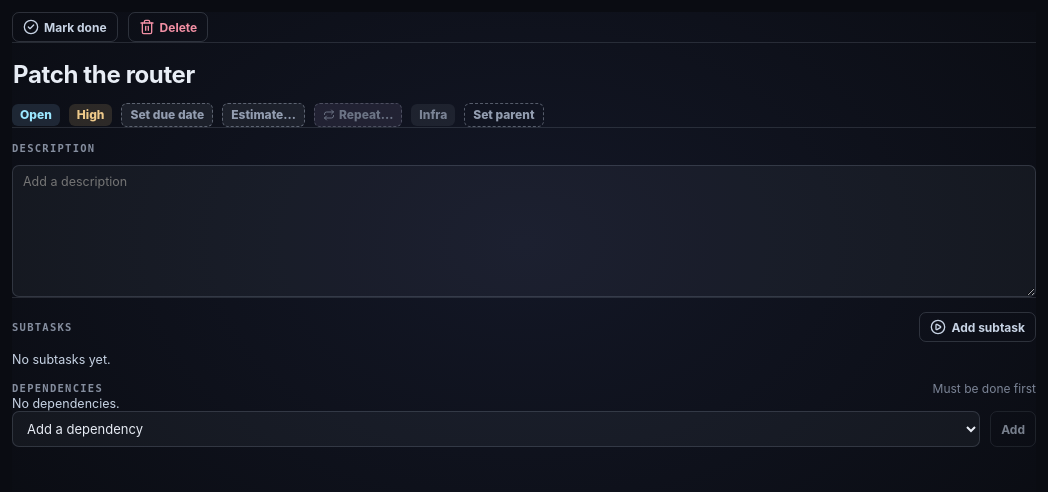
it: TaskDetailView › keeps a description edit typed while the title save is in flight
Replace the text in the field named "Task title" with "Patch the edge router" at (524, 75), box x1=12 y1=57 x2=1036 y2=93
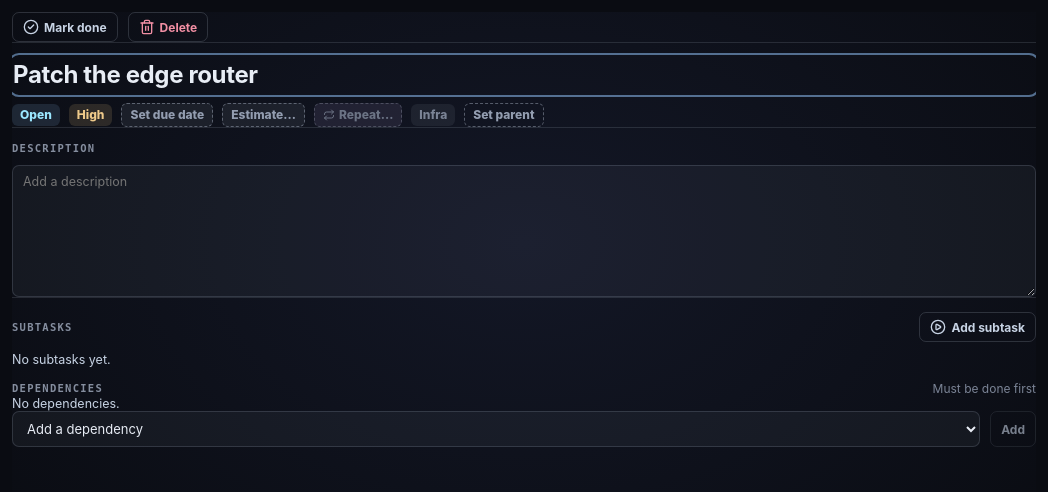
// Clicking into the description blurs the title, which starts its save.
Click the text box named "Task description".
click(524, 231)  # box x1=12 y1=165 x2=1036 y2=297
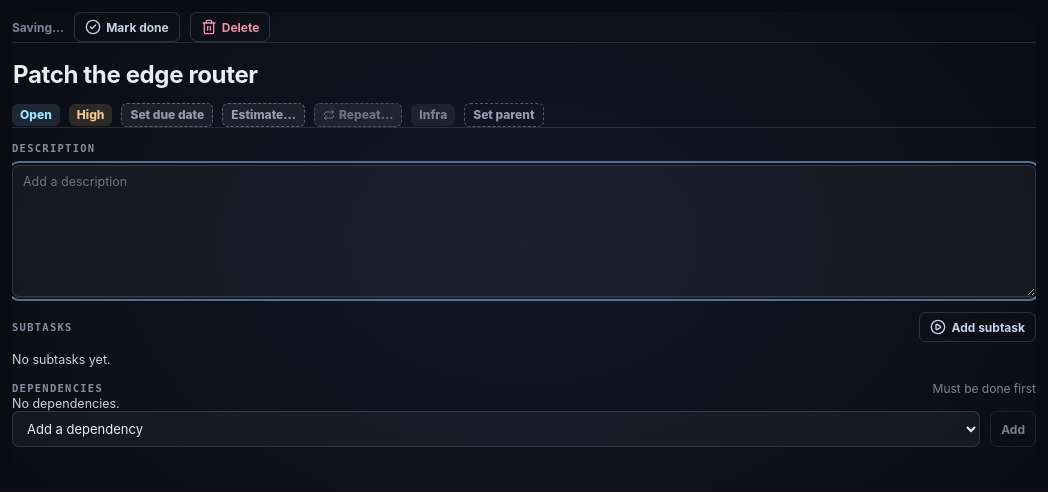
Type "Half-typed" into the text box named "Task description".
click(524, 231); type("Half-typed")  # box x1=12 y1=165 x2=1036 y2=297
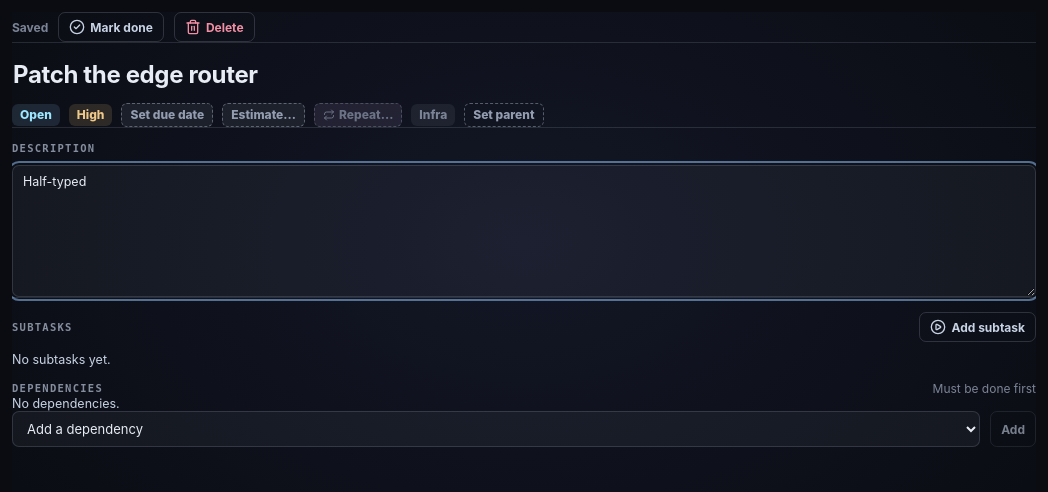
// The next keystroke continues the surviving draft rather than re-anchoring.
Type " note" into the text box named "Task description".
click(524, 231); type(" note")  # box x1=12 y1=165 x2=1036 y2=297
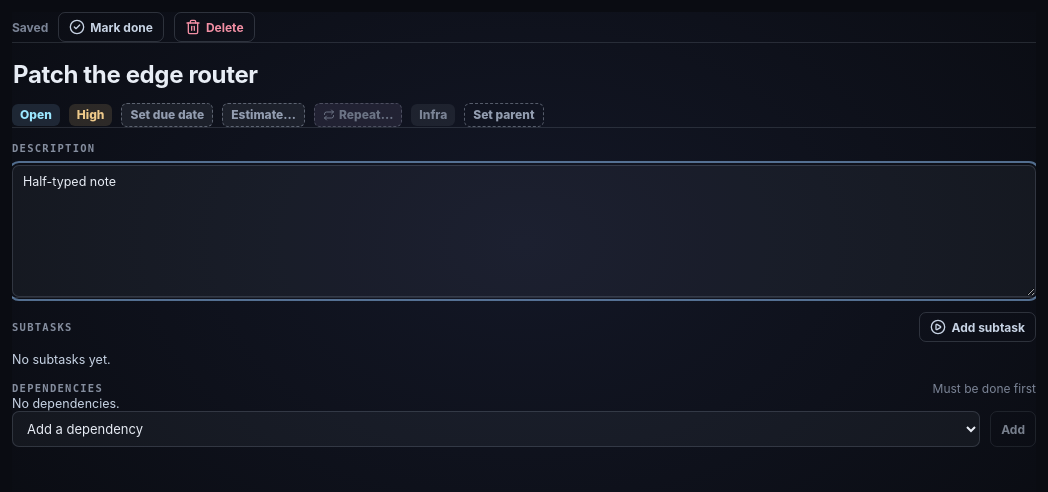
Expected: the text box named "Task description" holds "Half-typed note", x1=12 y1=165 x2=1036 y2=297
